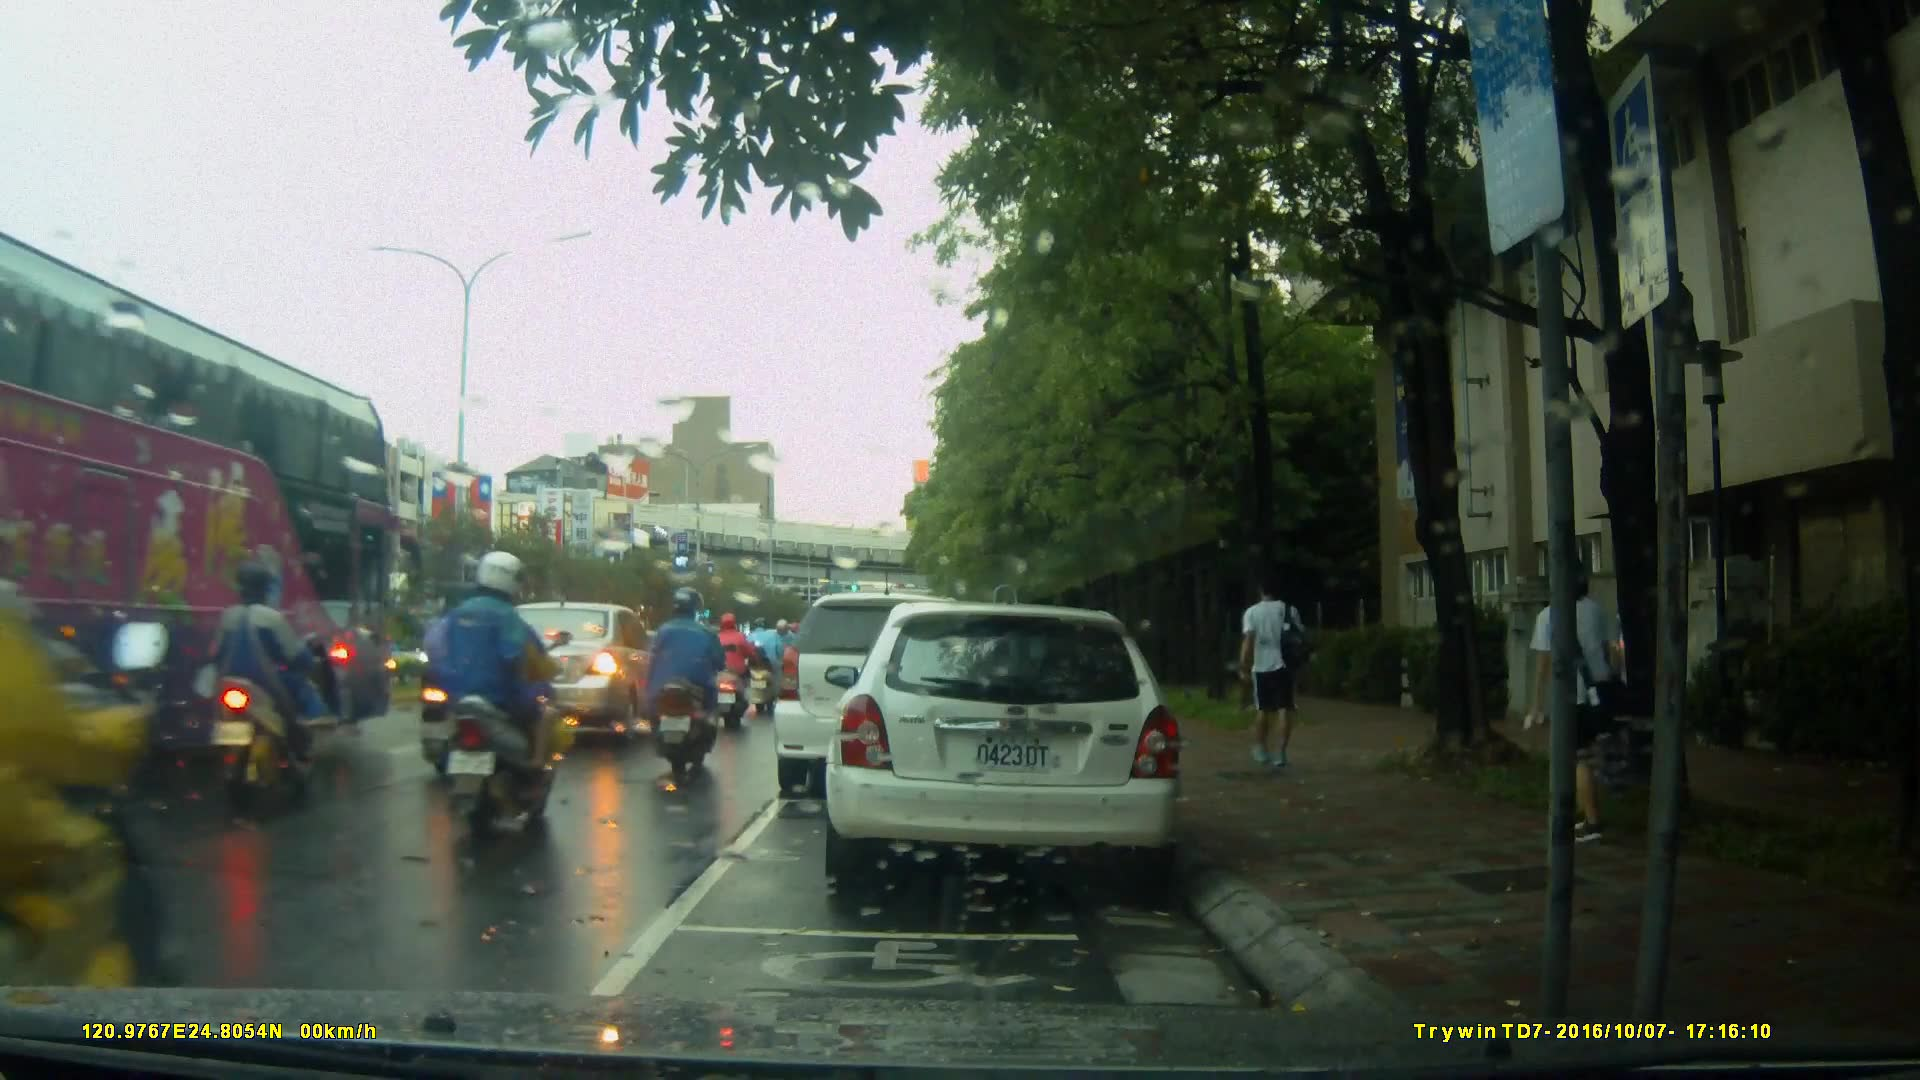pedestrian: (1514, 547, 1616, 843), (1227, 569, 1313, 785)
rider: (1, 453, 184, 1054), (437, 551, 559, 841), (202, 557, 324, 811), (647, 584, 729, 776), (706, 605, 761, 727), (748, 612, 787, 713), (773, 621, 812, 707)
vehicle: (10, 245, 394, 859), (812, 604, 1188, 881), (774, 595, 995, 802), (465, 600, 685, 745)
